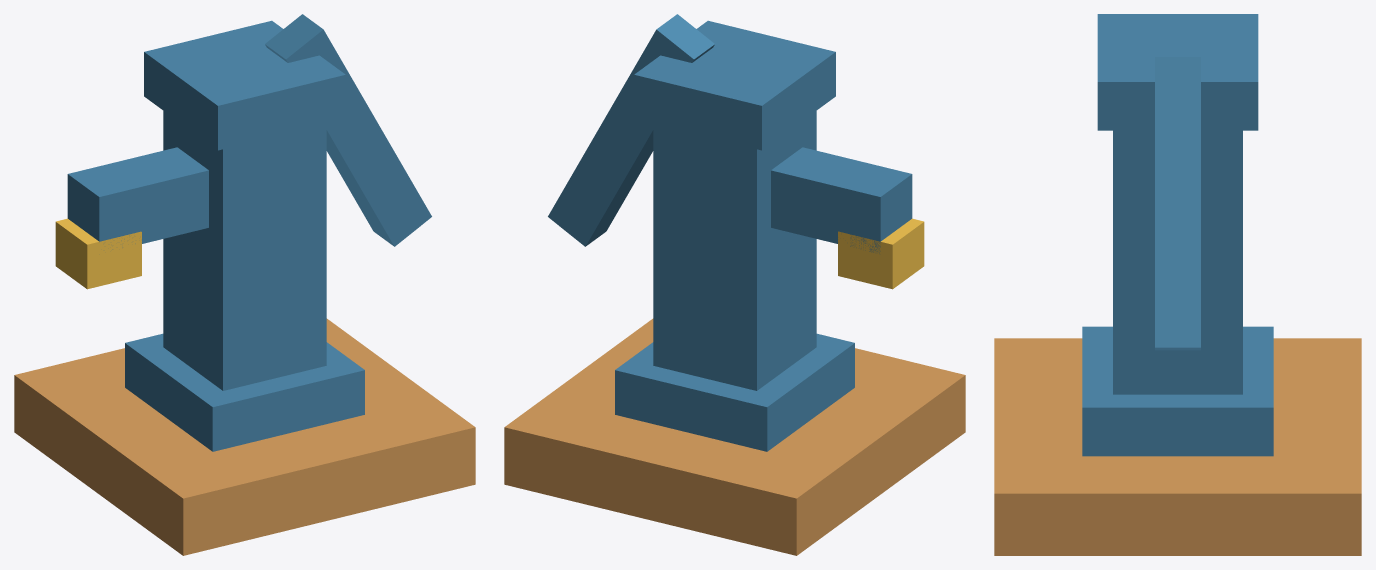
File: machine-pump.glb
3 views of the same model, side by side, from view 1: azimuth 30°, elevation 25°; view 2: azimuth 150°, elevation 25°; view 3: azimuth 270°, elevation 25° (orthographic). The views are drawn at different scales.
Parts seen in each view (by area): view 1: Deck, Body, Cap, Base, Spout, Handle, Nozzle; view 2: Deck, Body, Cap, Base, Spout, Handle, Nozzle; view 3: Deck, Body, Base, Cap, Handle.
Part boxes in pixels (bbox=[...]): Deck: bbox=[14, 318, 475, 555]; Body: bbox=[163, 111, 326, 390]; Cap: bbox=[144, 20, 345, 150]; Base: bbox=[125, 333, 364, 451]; Spout: bbox=[67, 147, 208, 249]; Handle: bbox=[265, 14, 431, 246]; Nozzle: bbox=[55, 218, 141, 289]; Deck: bbox=[504, 318, 965, 555]; Body: bbox=[653, 111, 816, 390]; Cap: bbox=[634, 20, 835, 150]; Base: bbox=[615, 333, 854, 451]; Spout: bbox=[771, 147, 912, 253]; Handle: bbox=[548, 14, 714, 246]; Nozzle: bbox=[838, 218, 924, 289]; Deck: bbox=[994, 338, 1361, 555]; Body: bbox=[1113, 130, 1242, 394]; Base: bbox=[1082, 326, 1273, 456]; Cap: bbox=[1097, 14, 1258, 130]; Handle: bbox=[1155, 57, 1200, 350].
Bounding box in the file's own units: 1.15 × 1.32 × 0.96.
